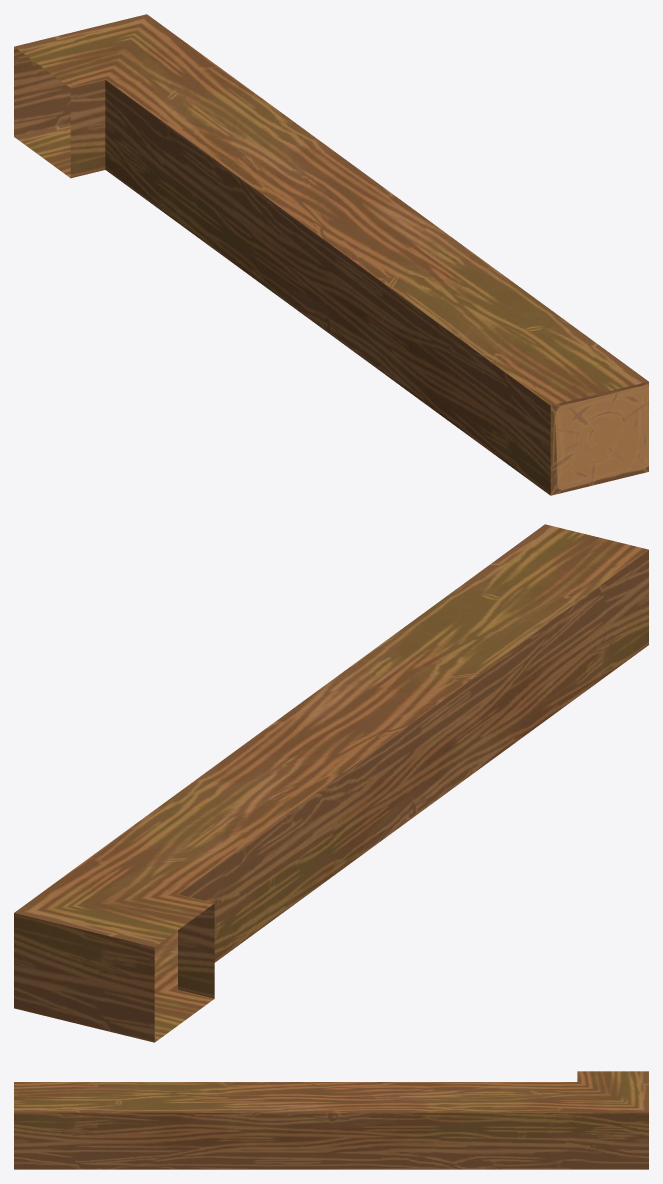
File: HoleCover_90Stairs.glb
3 views of the same model, one above another, from view 1: azimuth 30°, elevation 25°; view 2: azimuth 150°, elevation 25°; view 3: azimuth 270°, elevation 25° (orthographic). The views are drawn at different scales.
Parts seen in each view (by area): view 1: HoleCover_90Stairs; view 2: HoleCover_90Stairs; view 3: HoleCover_90Stairs.
Boxes of the visible parts, x1,y1,x2,y2 form: HoleCover_90Stairs: (14, 14, 648, 495); HoleCover_90Stairs: (14, 524, 648, 1042); HoleCover_90Stairs: (14, 1071, 648, 1169).
Size of the model in its own units: 0.3242 by 0.2101 by 2.12.
1 material, 1 textured.
